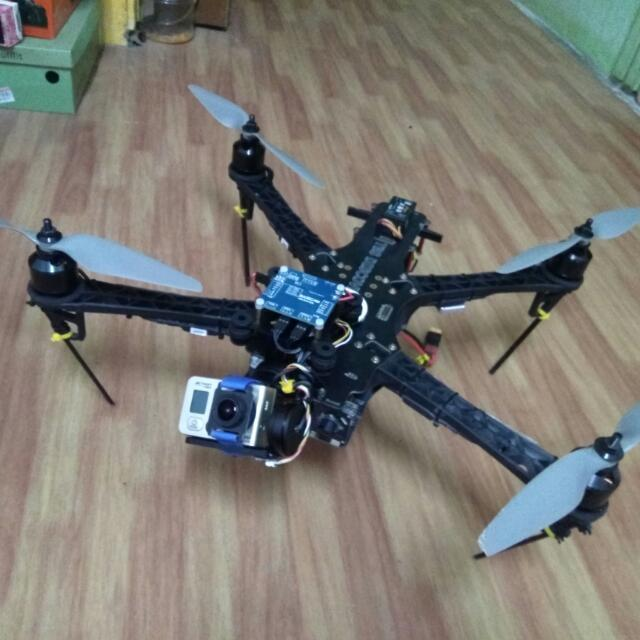drones: (0, 74, 640, 614)
